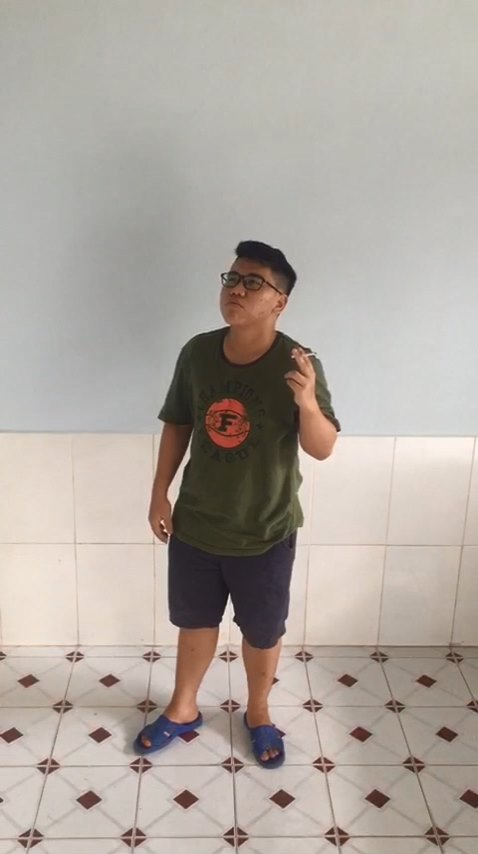cigarette: (293, 350, 315, 359)
person: (125, 204, 363, 804)
